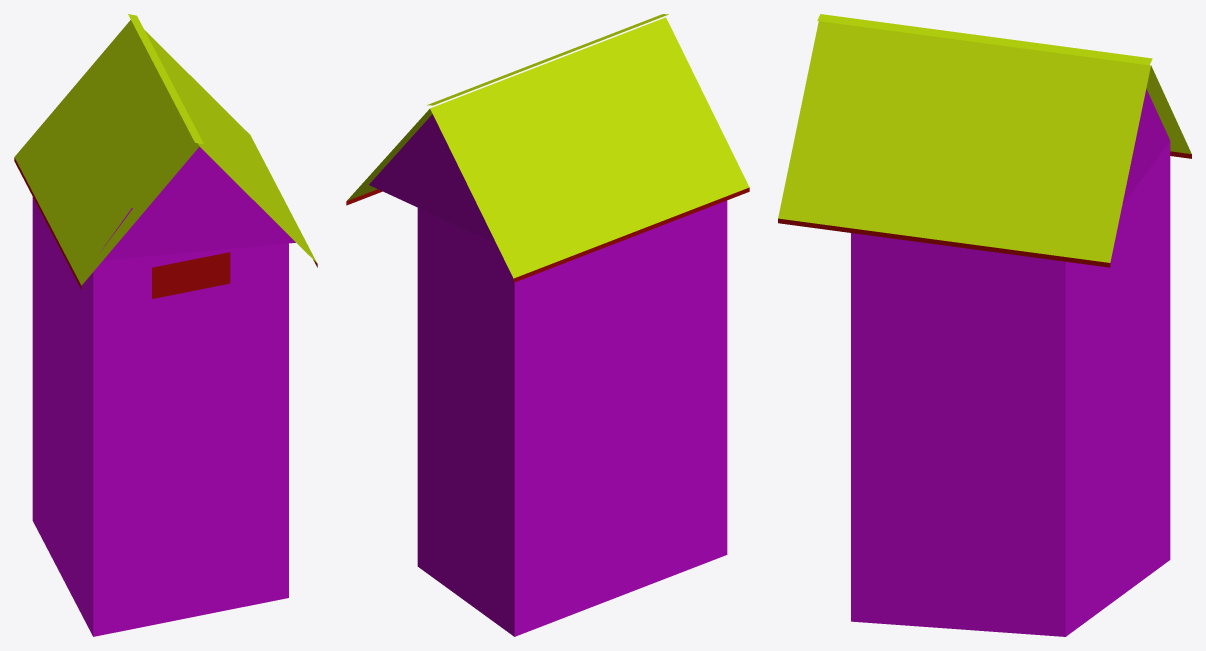
Rendered from bgj_358.glb.
The picture shows the model from 3 angles, left to right: view 1: azimuth 30°, elevation 25°; view 2: azimuth 150°, elevation 25°; view 3: azimuth 270°, elevation 25°; orthographic projection. The views are drawn at different scales.
Parts seen in each view (by area): view 1: bgj_358; view 2: bgj_358; view 3: bgj_358.
Boxes of the visible parts, box(x1,y1,x2,y2) form: bgj_358: box(14, 14, 317, 636); bgj_358: box(346, 14, 749, 636); bgj_358: box(778, 14, 1191, 636).
Bounding box in the file's own units: 8.41 × 14.05 × 9.6.
